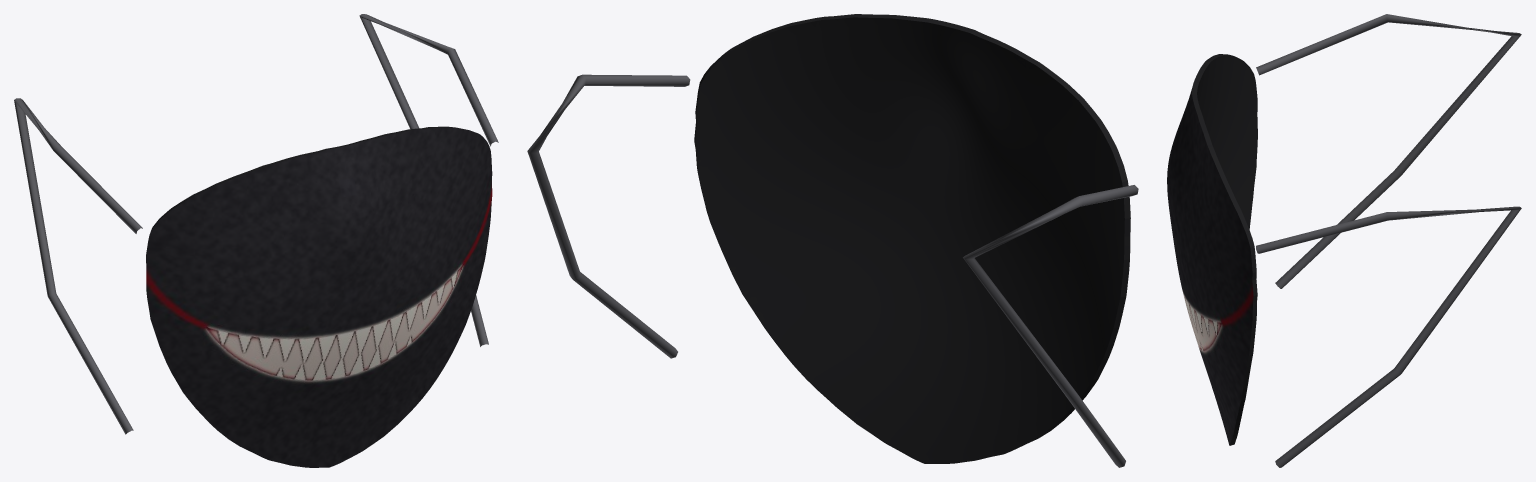
Rendered from 裂け笑いマスク_blackgrin.glb.
3 views of the same model, side by side, from view 1: azimuth 30°, elevation 25°; view 2: azimuth 150°, elevation 25°; view 3: azimuth 270°, elevation 25° (orthographic). The views are drawn at different scales.
Parts seen in each view (by area): view 1: blackgrin; view 2: blackgrin; view 3: blackgrin.
Part boxes in pixels (bbox=[...]): blackgrin: bbox=[14, 14, 498, 467]; blackgrin: bbox=[527, 14, 1138, 467]; blackgrin: bbox=[1167, 14, 1521, 467].
Bounding box in the file's own units: 0.1814 × 0.1448 × 0.1348.
2 materials, 1 textured.
